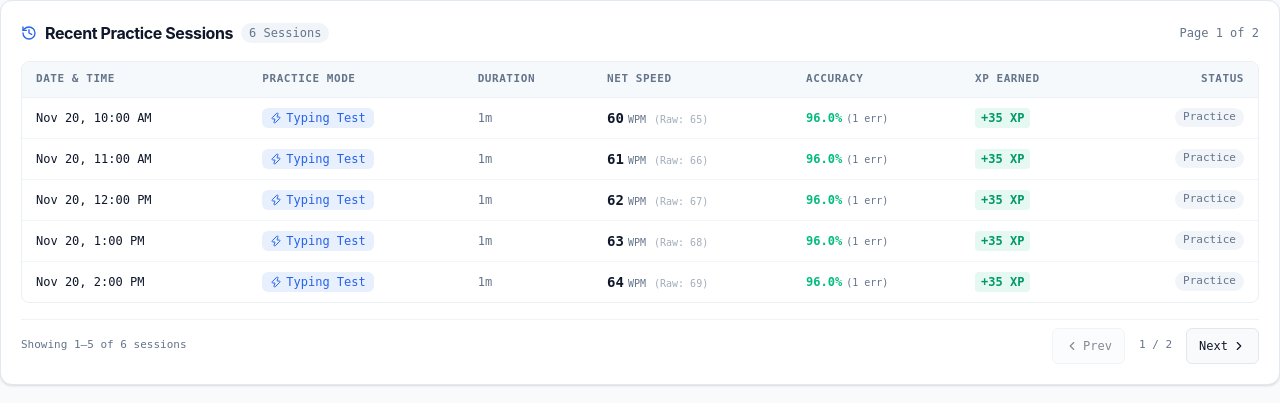
Test: RecentSessionsTable (W-10) › handles pagination navigation with backend sessionService
Click the button with aria-label "Next Page": (1223, 346) [1186, 328, 1259, 364]
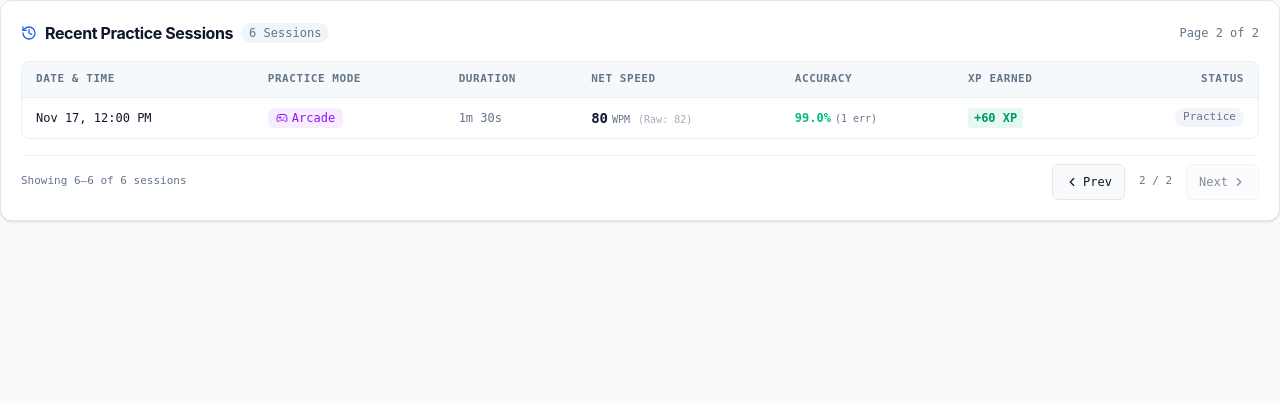
Expected: the text "Arcade" is shown, [292, 110, 335, 126]
Expected: the text "+60 XP" is shown, [968, 108, 1023, 128]
Expected: the text "Page 2 of 2" is shown, [1180, 26, 1259, 40]
